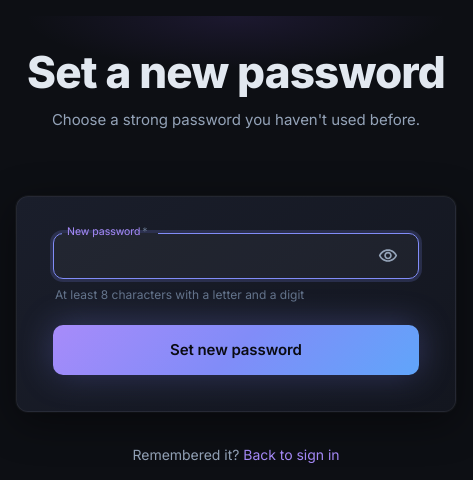
it: ResetPasswordPage › disables the button and shows Saving… while request is in flight
Type "Pass1!" into the password field labelled "New password *".
click(209, 256); type("Pass1!")  # box left=53, top=234, right=365, bottom=279
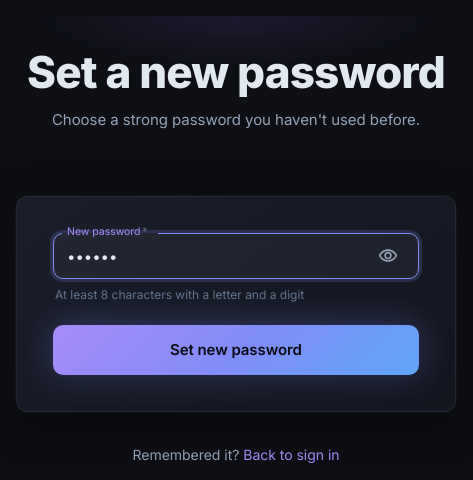
Click the button "Set new password".
click(236, 350)  # box left=53, top=325, right=419, bottom=375
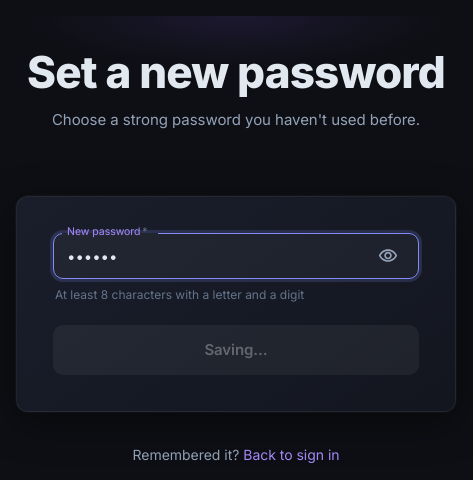
Expected: the button "Saving…" is disabled, left=53, top=325, right=419, bottom=375
